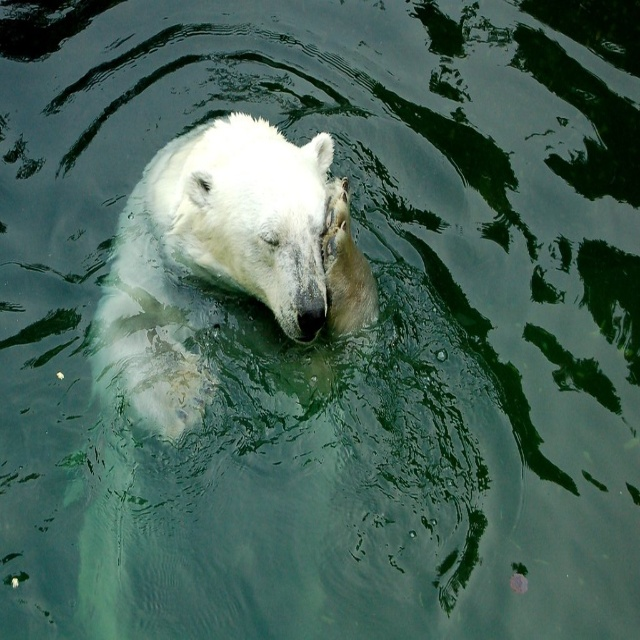Polar bear: (76, 106, 379, 639)
